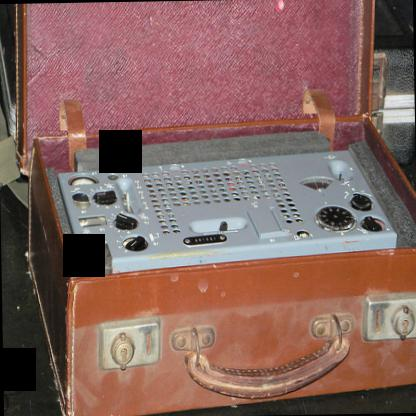suitcase: (13, 0, 416, 416), (368, 0, 415, 165)
